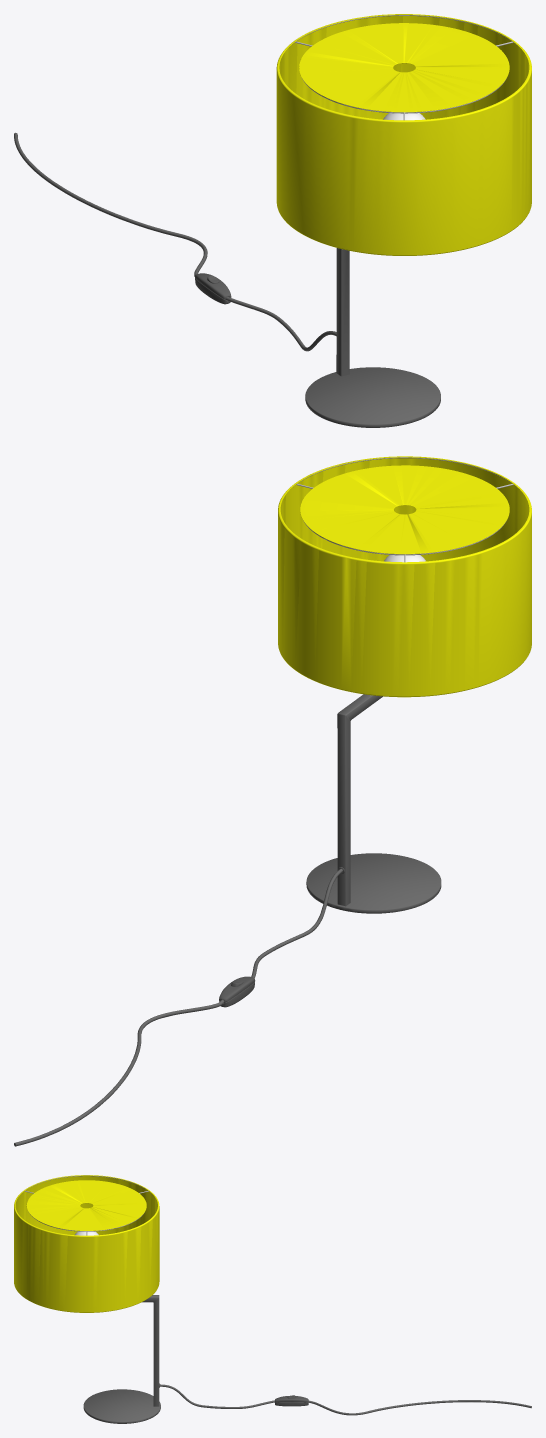
The model's file is designconnected-neat-noon-table-lamp-10748.optimized.glb.
The picture shows the model from 3 angles, top to bottom: view 1: azimuth 30°, elevation 25°; view 2: azimuth 150°, elevation 25°; view 3: azimuth 270°, elevation 25°; orthographic projection. The views are drawn at different scales.
Parts seen in each view (by area): view 1: Zeitraum_Neat_Noon_mat1; view 2: Zeitraum_Neat_Noon_mat1; view 3: Zeitraum_Neat_Noon_mat1.
Boxes of the visible parts, box(x1,y1,x2,y2) form: Zeitraum_Neat_Noon_mat1: box(14, 14, 531, 427); Zeitraum_Neat_Noon_mat1: box(14, 456, 531, 1146); Zeitraum_Neat_Noon_mat1: box(14, 1175, 531, 1423).
Size of the model in its own units: 0.3 by 0.46 by 1.07.
